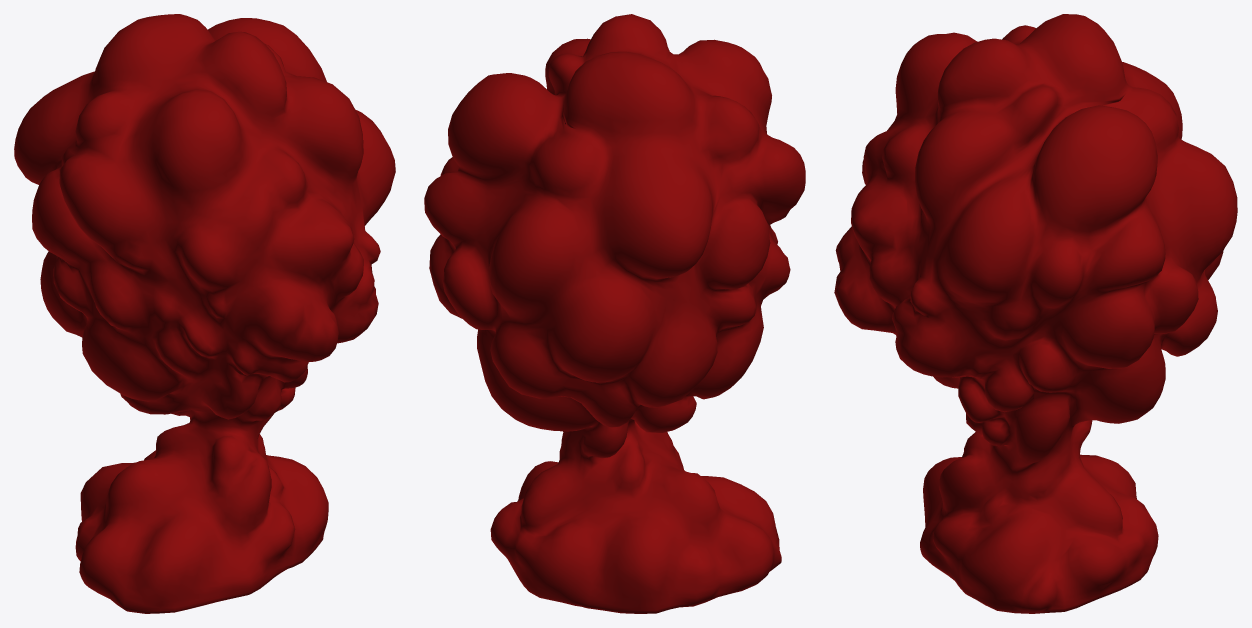
Rendered from SacMesh.fbx.
3 views of the same model, side by side, from view 1: azimuth 30°, elevation 25°; view 2: azimuth 150°, elevation 25°; view 3: azimuth 270°, elevation 25° (orthographic).
Parts seen in each view (by area): view 1: saclow; view 2: saclow; view 3: saclow.
Part boxes in pixels (x1,y1,x2,y2): saclow: (14,14,395,613); saclow: (424,14,805,613); saclow: (834,14,1237,613).
Bounding box in the file's own units: 55.96 × 88.21 × 60.73.
